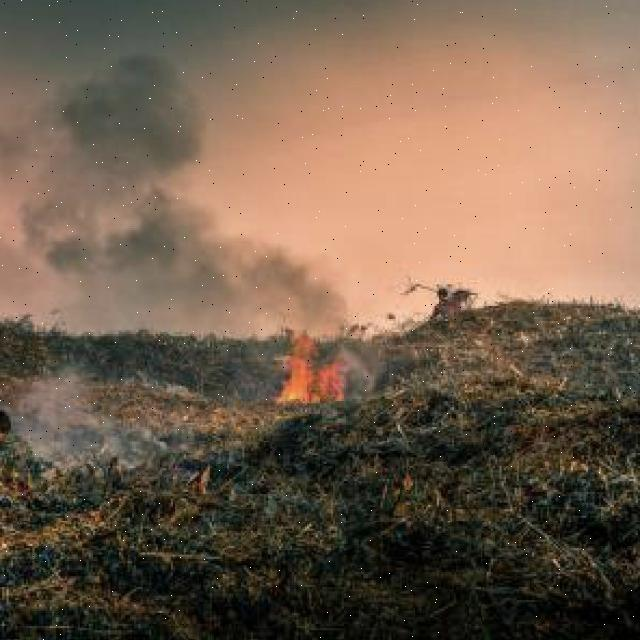fire: (281, 347, 340, 414)
smoke: (8, 63, 349, 340), (11, 353, 138, 479)
